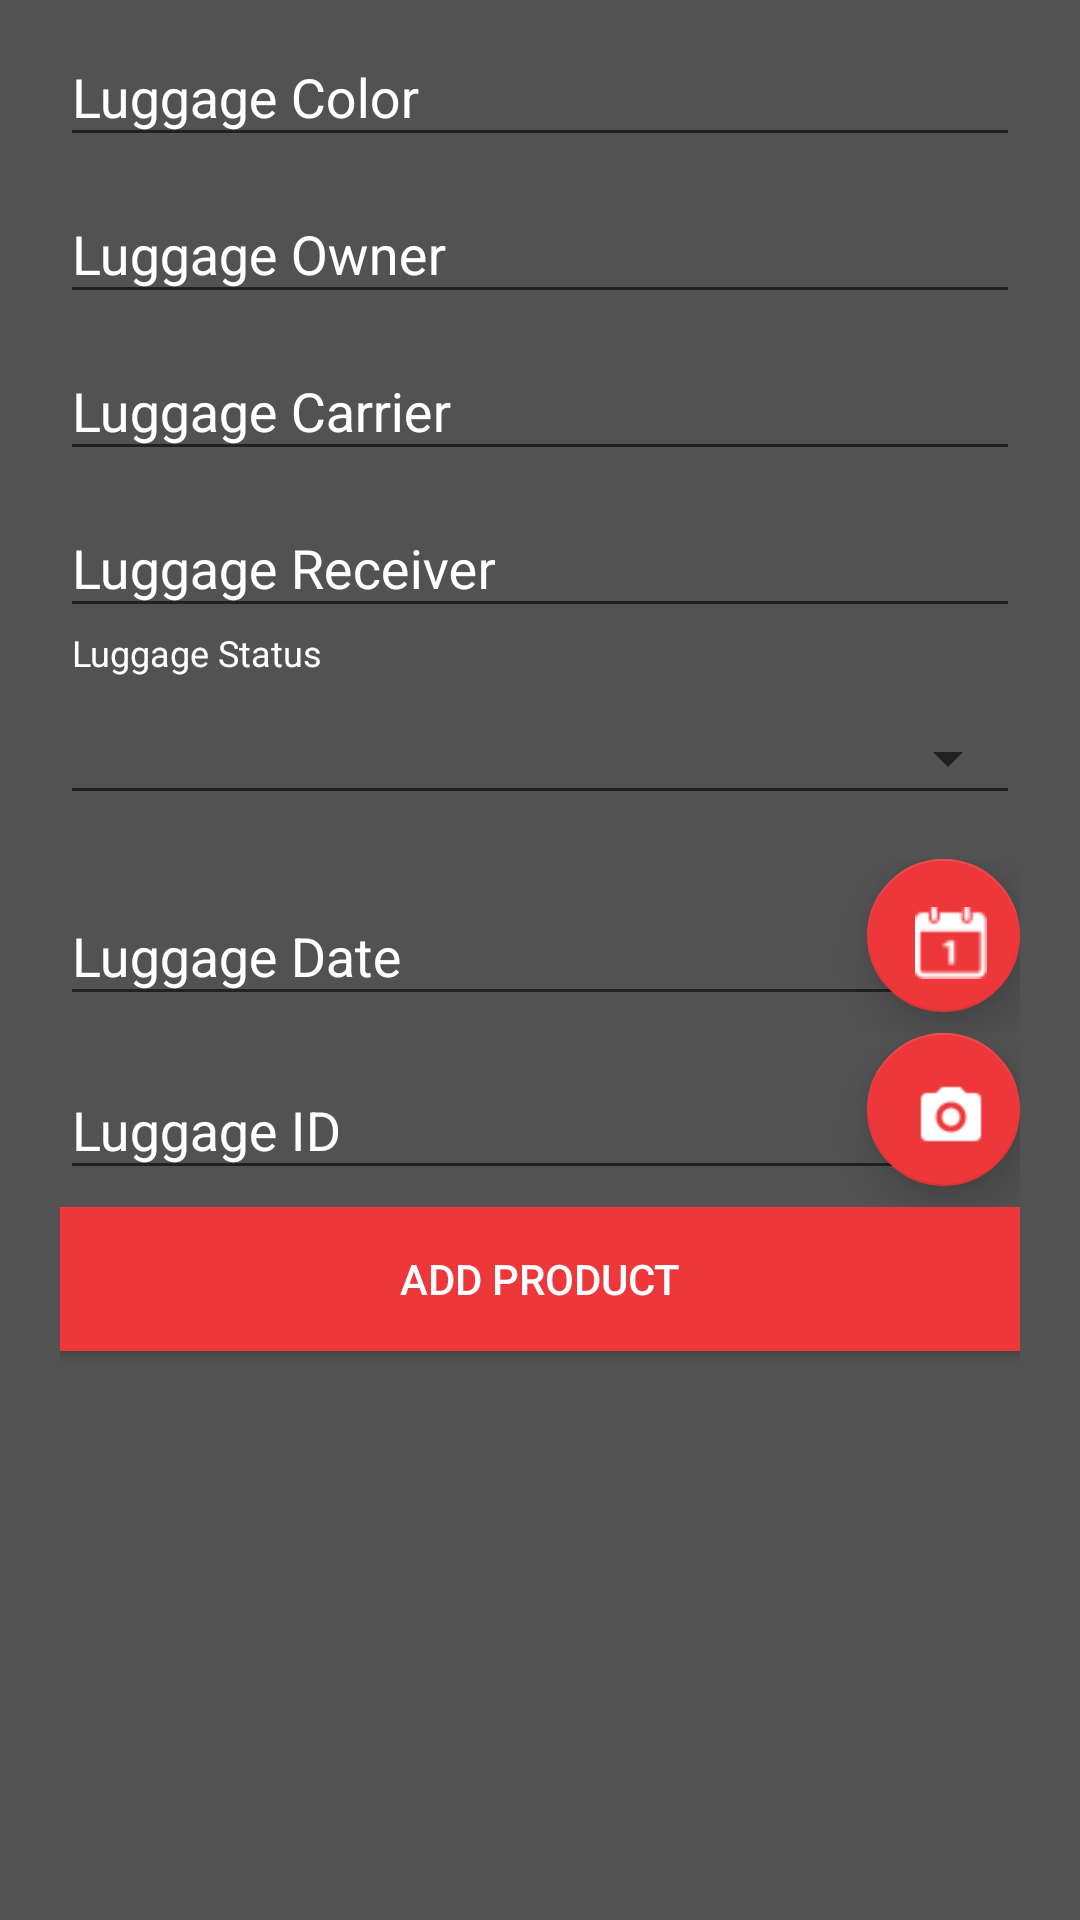

Point at icon controls on the screen. Image size 1080px x 1920px, points as (x,y).
calender: (943,935)
camera: (943,1109)
